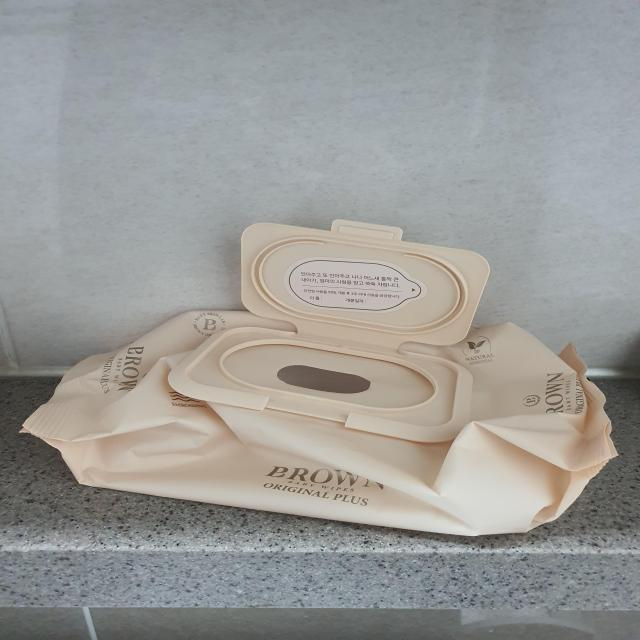nhua: (23, 220, 615, 535)
